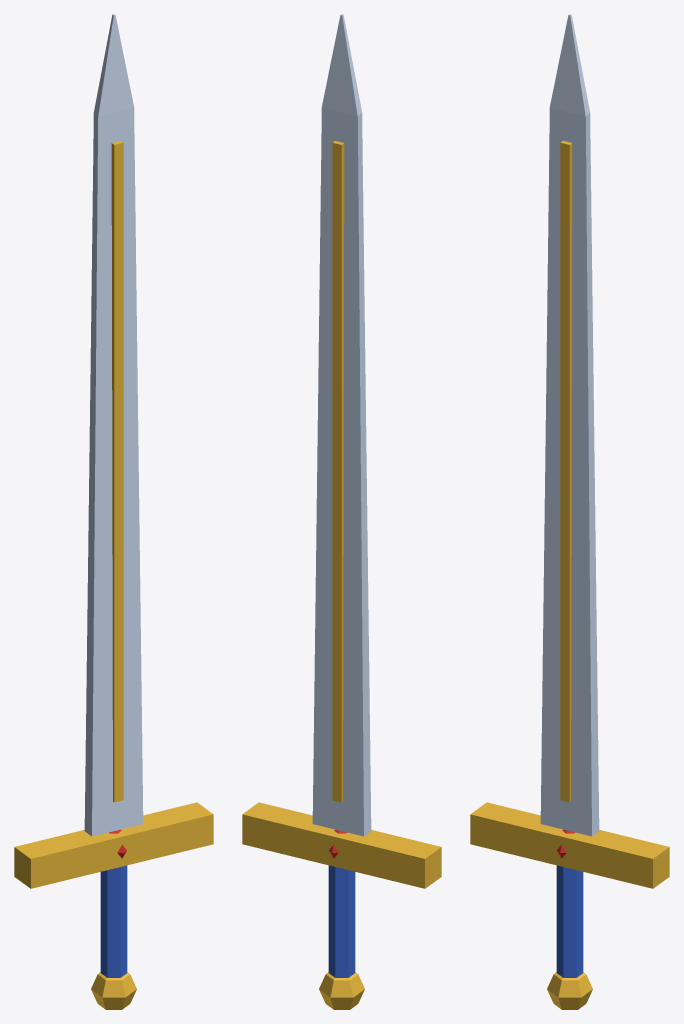
Rendered from w_excalibur.glb.
3 views of the same model, side by side, from view 1: azimuth 30°, elevation 25°; view 2: azimuth 150°, elevation 25°; view 3: azimuth 330°, elevation 25° (orthographic).
Parts seen in each view (by area): view 1: excalibur; view 2: excalibur; view 3: excalibur.
Boxes of the visible parts, box(x1,y1,x2,y2) form: excalibur: box(14, 14, 213, 1009); excalibur: box(242, 14, 441, 1009); excalibur: box(470, 14, 669, 1009).
Size of the model in its own units: 0.32 by 1.66 by 0.07.
